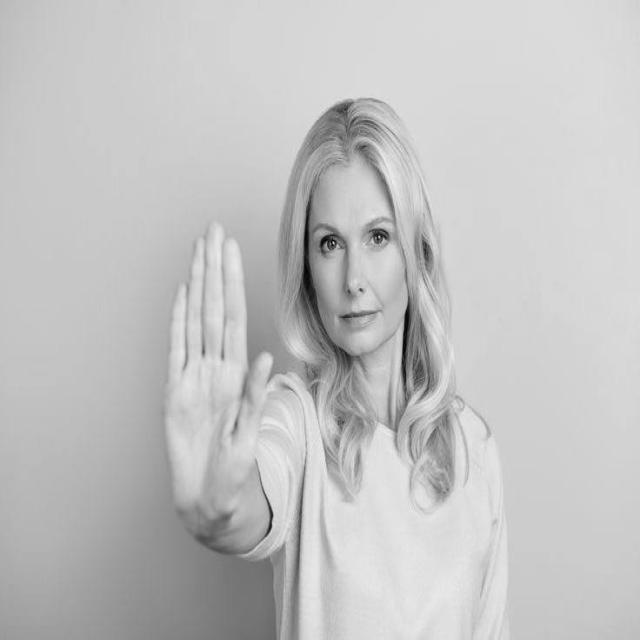stop: (159, 217, 278, 531)
